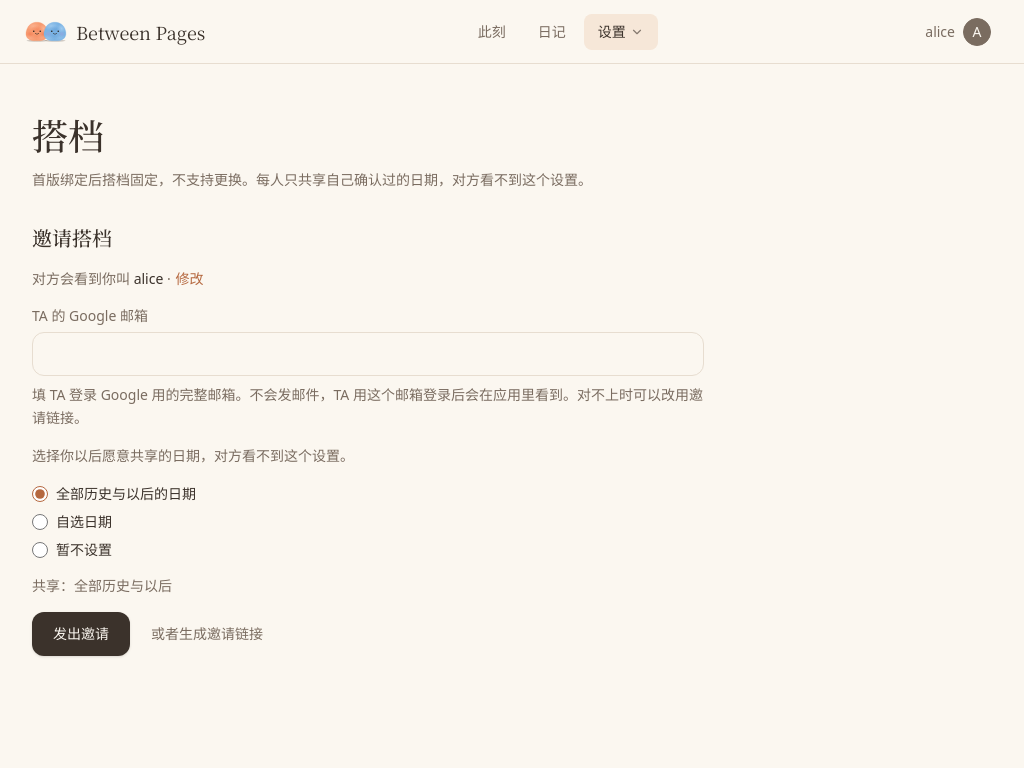
RelationshipPanel › [adr:display-name#1] shows the name the partner will see and renames it in place
The image size is (1024, 768).
Check: the text "对方会看到你叫 alice · 修改" is shown, box [32, 268, 204, 290]
Click the button with aria-label "修改名字 alice" at coordinates (189, 279), box [174, 268, 204, 290]
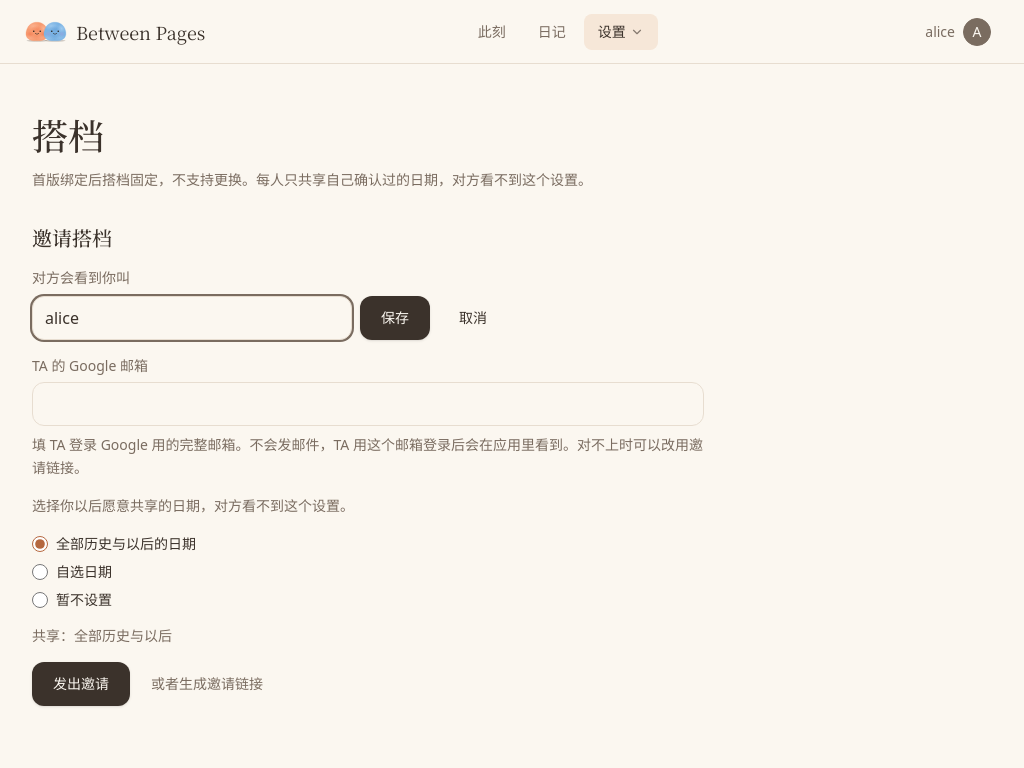
Replace the text in the field named "名字" with "小雨" at coordinates (192, 318), box [32, 296, 352, 340]
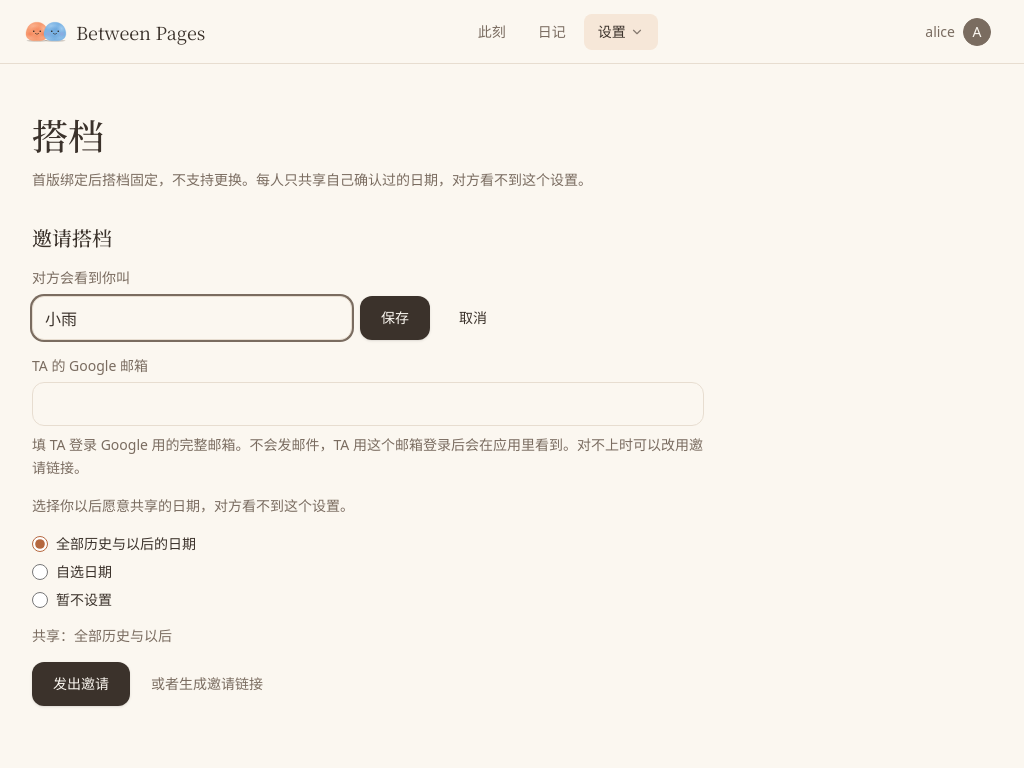
Click the button "保存" at coordinates (395, 318), box [360, 296, 430, 340]
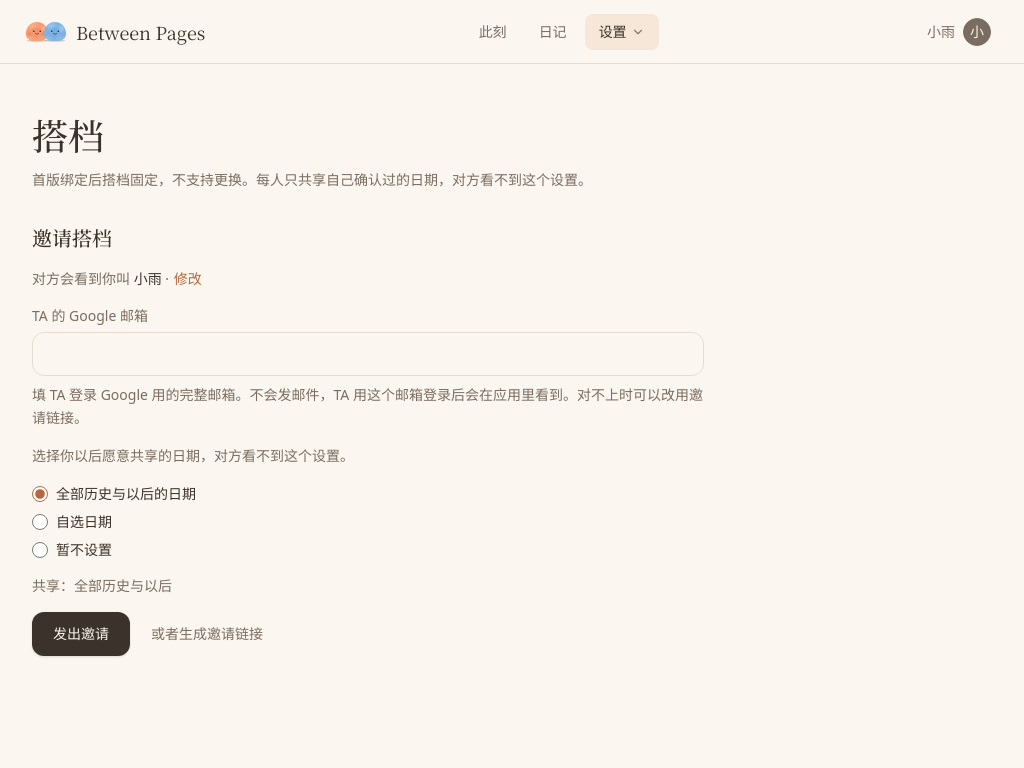
Check: the field labelled "名字" is not shown
Check: the button with aria-label "修改名字 小雨" is shown, box [173, 268, 203, 290]
